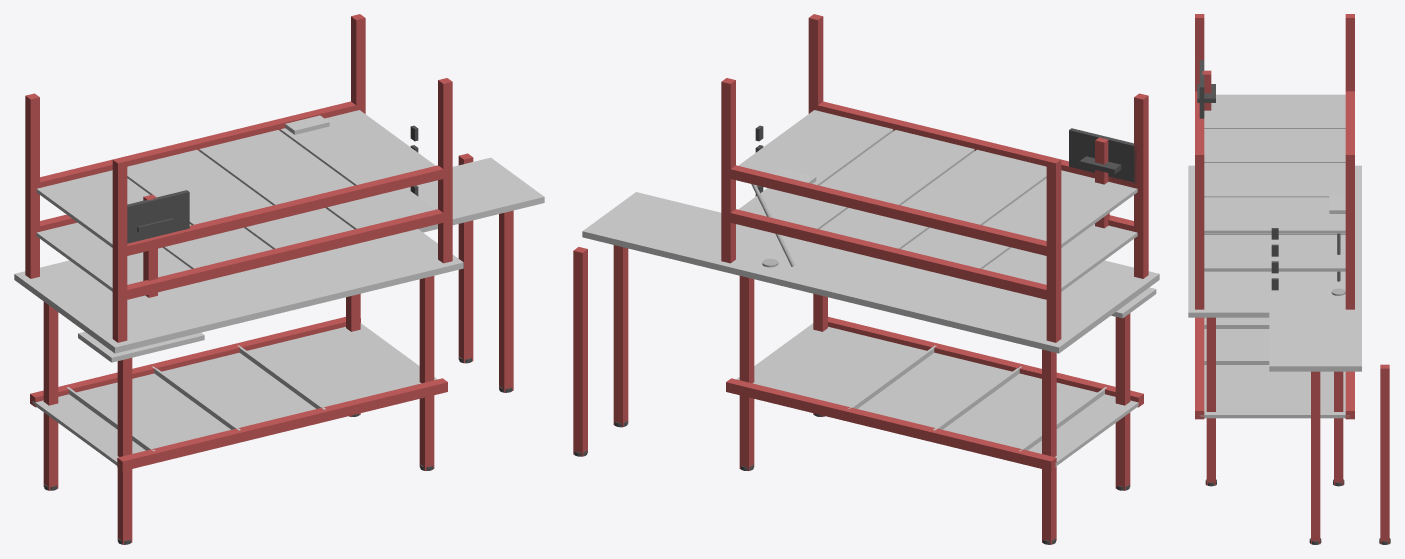
Rendered from station-packcheck-integrated-red.glb.
The picture shows the model from 3 angles, left to right: view 1: azimuth 30°, elevation 25°; view 2: azimuth 150°, elevation 25°; view 3: azimuth 270°, elevation 25°; orthographic projection. The views are drawn at different scales.
Parts seen in each view (by area): view 1: lower_base, main_table, upper_shelf_1_2, upper_shelf_1_3, upper_shelf_1_1, lower_front_beam, upper_front_beam_0, upper_front_beam_1, side_table, upper_shelf_0_0, upper_shelf_1_0, upper_back_beam_1 (+17 smaller); view 2: lower_base, main_table, side_table, upper_shelf_1_2, upper_shelf_1_1, upper_shelf_1_3, upper_shelf_1_0, lower_back_beam, upper_back_beam_0, upper_back_beam_1, upper_shelf_0_0, side_leg_1 (+14 smaller); view 3: lower_base, main_table, side_table, upper_shelf_0_3, upper_shelf_1_3, upper_shelf_1_2, upper_shelf_1_1, upper_shelf_1_0, side_leg_1, side_leg_0, leg_1, upper_post_1 (+14 smaller).
Part boxes in pixels (x1=…): lower_base: x1=32, y1=323, x2=437, y2=466; main_table: x1=14, y1=229, x2=463, y2=353; upper_shelf_1_2: x1=199, y1=130, x2=353, y2=205; upper_shelf_1_3: x1=280, y1=110, x2=435, y2=185; upper_shelf_1_1: x1=127, y1=149, x2=272, y2=225; lower_front_beam: x1=117, y1=378, x2=447, y2=471; upper_front_beam_0: x1=122, y1=209, x2=447, y2=300; upper_front_beam_1: x1=122, y1=165, x2=447, y2=256; side_table: x1=407, y1=157, x2=544, y2=232; upper_shelf_0_0: x1=36, y1=222, x2=191, y2=291; upper_shelf_1_0: x1=36, y1=170, x2=191, y2=247; upper_back_beam_1: x1=37, y1=101, x2=359, y2=188; lower_base: x1=736, y1=323, x2=1138, y2=466; main_table: x1=710, y1=229, x2=1159, y2=353; side_table: x1=582, y1=192, x2=764, y2=268; upper_shelf_1_2: x1=820, y1=130, x2=974, y2=205; upper_shelf_1_1: x1=901, y1=149, x2=1046, y2=225; upper_shelf_1_3: x1=738, y1=110, x2=893, y2=185; upper_shelf_1_0: x1=982, y1=170, x2=1137, y2=247; lower_back_beam: x1=726, y1=378, x2=1056, y2=471; upper_back_beam_0: x1=726, y1=209, x2=1050, y2=299; upper_back_beam_1: x1=726, y1=165, x2=1050, y2=256; upper_shelf_0_0: x1=982, y1=224, x2=1137, y2=291; side_leg_1: x1=573, y1=247, x2=587, y2=456; lower_base: x1=1199, y1=317, x2=1349, y2=418; main_table: x1=1188, y1=165, x2=1361, y2=317; side_table: x1=1269, y1=307, x2=1361, y2=371; upper_shelf_0_3: x1=1204, y1=235, x2=1345, y2=271; upper_shelf_1_3: x1=1204, y1=197, x2=1345, y2=233; upper_shelf_1_2: x1=1204, y1=163, x2=1345, y2=197; upper_shelf_1_1: x1=1204, y1=129, x2=1345, y2=162; upper_shelf_1_0: x1=1204, y1=94, x2=1345, y2=128; side_leg_1: x1=1380, y1=364, x2=1389, y2=544; side_leg_0: x1=1311, y1=371, x2=1320, y2=544; leg_1: x1=1206, y1=317, x2=1215, y2=485; upper_post_1: x1=1195, y1=151, x2=1204, y2=309.
Size of the model in its own units: 2050 by 1600 by 875.
